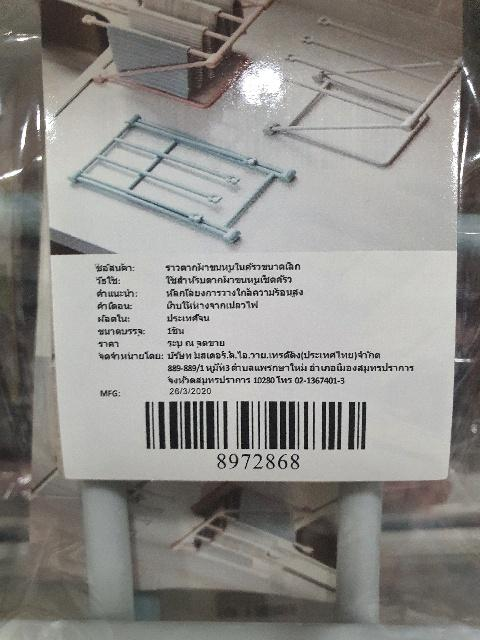Barcode: (133, 395, 378, 471)
